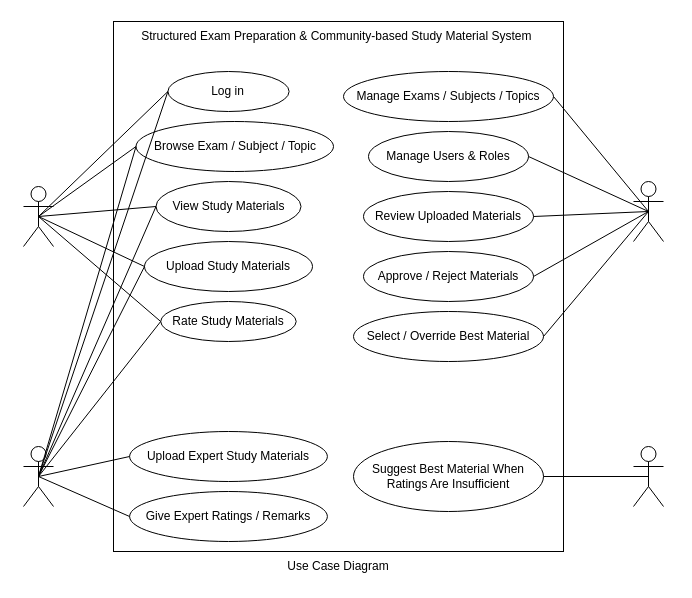
Some shapes in this 692 by 598 pixel diagram are drawn without their labels. The box of each missing label's shape, as (x1, y1, x2, y2) in pixels:
Admin: (632, 180, 664, 242)
AI Engine: (632, 446, 664, 506)
Student: (22, 186, 54, 246)
Teacher: (22, 446, 54, 506)
